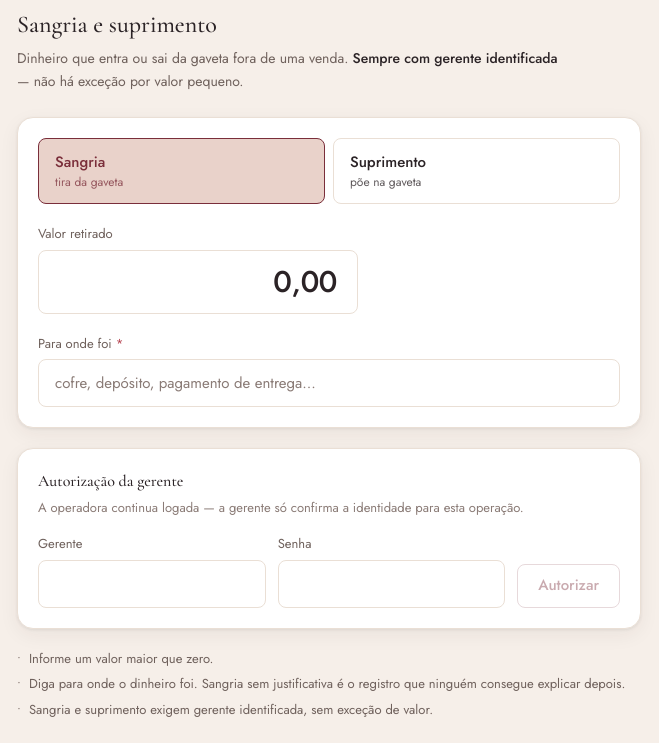
Test: TelaMovimentoCaixa — autorização › credencial errada aparece no formulário, não numa tela em branco
Step 1. Type "bia" into the field labelled "Gerente" → (152, 584), box top-left (38, 560), bottom-right (266, 608)
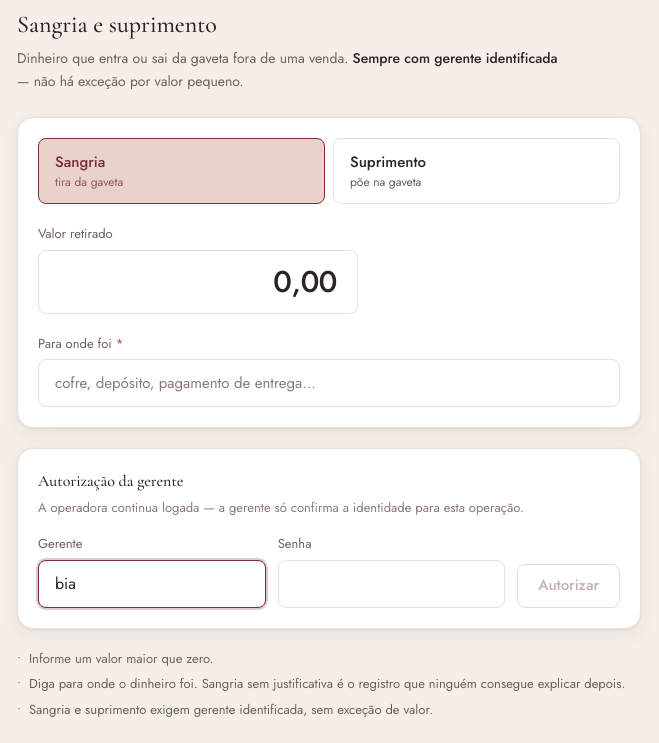
Step 2. Type "errada" into the password field labelled "Senha" → (392, 584), box top-left (278, 560), bottom-right (505, 608)
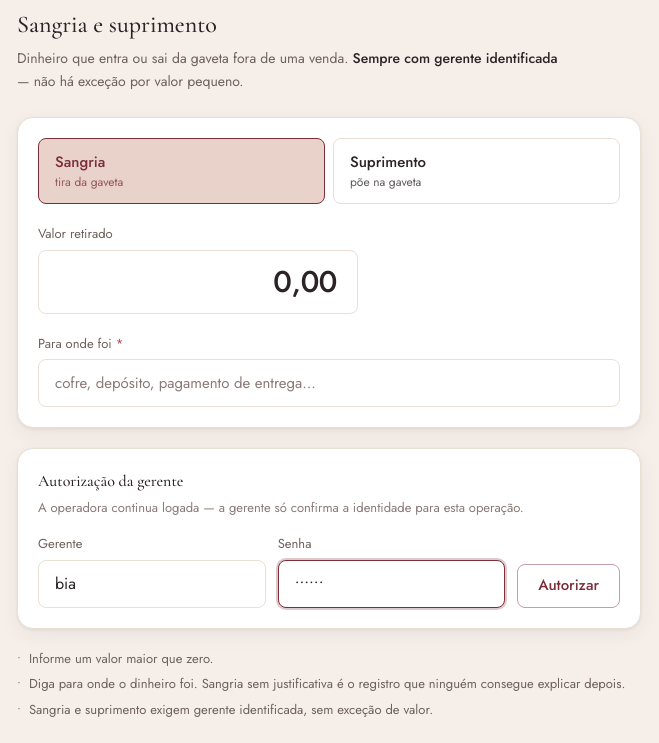
Step 3. Click the button "Autorizar" → (569, 586), box top-left (517, 564), bottom-right (620, 608)
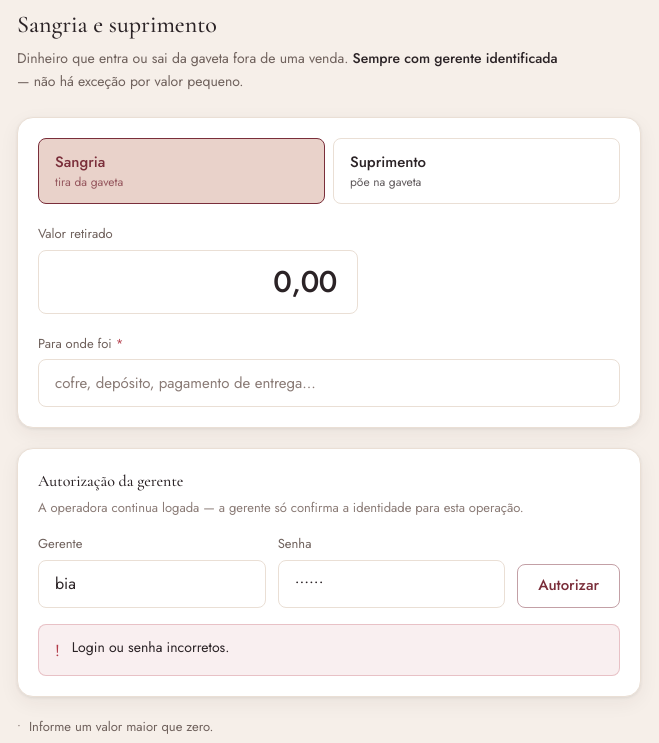
Expected: the message shows "Login ou senha incorretos.", top-left (72, 637), bottom-right (229, 657)
